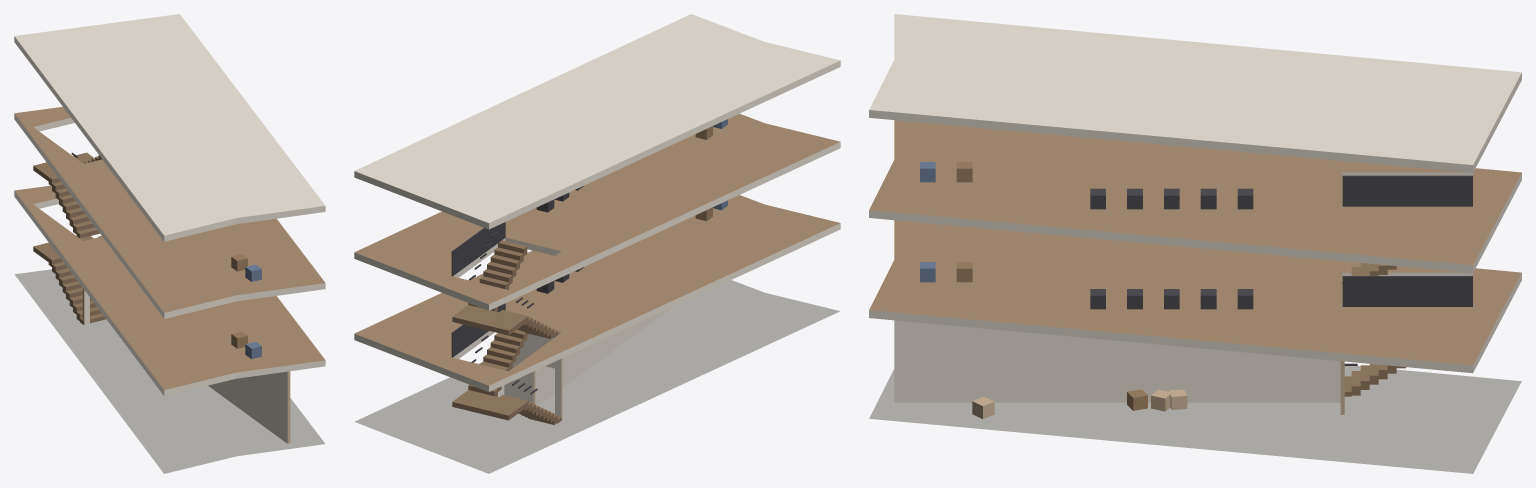
Rendered from interior.glb.
The picture shows the model from 3 angles, left to right: view 1: azimuth 30°, elevation 25°; view 2: azimuth 150°, elevation 25°; view 3: azimuth 270°, elevation 25°; orthographic projection. The views are drawn at different scales.
Parts seen in each view (by area): view 1: slabs, partitions, stair, coarse-s1, coarse-s2; view 2: slabs, stair, partitions; view 3: slabs, partitions, stair, coarse-s2, coarse-s1, coarse-s0.
Boxes of the visible parts, x1,y1,x2,y2 form: slabs: (14,14,325,473); partitions: (82,288,290,443); stair: (33,152,105,324); coarse-s1: (231,331,261,359); coarse-s2: (231,254,261,281); slabs: (354,14,840,473); stair: (451,222,561,424); partitions: (504,307,672,420); slabs: (869,14,1521,473); partitions: (894,320,1344,414); stair: (1342,175,1472,396); coarse-s2: (920,162,1253,209); coarse-s1: (920,262,1253,309); coarse-s0: (972,389,1187,418).
Bounding box in the file's own units: 10.68 × 10.2 × 19.5.
